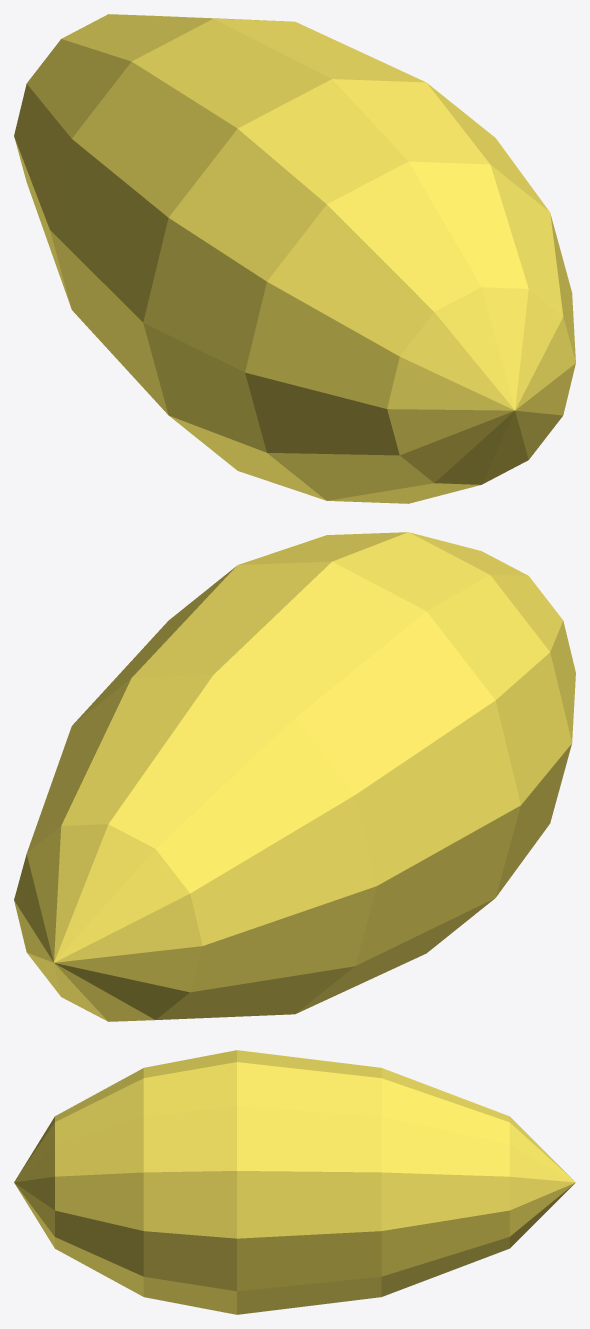
3 renders of one model, top to bottom at view 1: azimuth 30°, elevation 25°; view 2: azimuth 150°, elevation 25°; view 3: azimuth 270°, elevation 25°, orthographic. The views are drawn at different scales.
Parts seen in each view (by area): view 1: Shell; view 2: Shell; view 3: Shell.
Boxes of the visible parts, left/top/right/bottom form: Shell: left=14, top=14, right=575, bottom=503; Shell: left=14, top=532, right=575, bottom=1021; Shell: left=14, top=1050, right=575, bottom=1314.
Size of what is drawn, in the model's own units: 0.1285 by 0.2717 by 0.1285.
